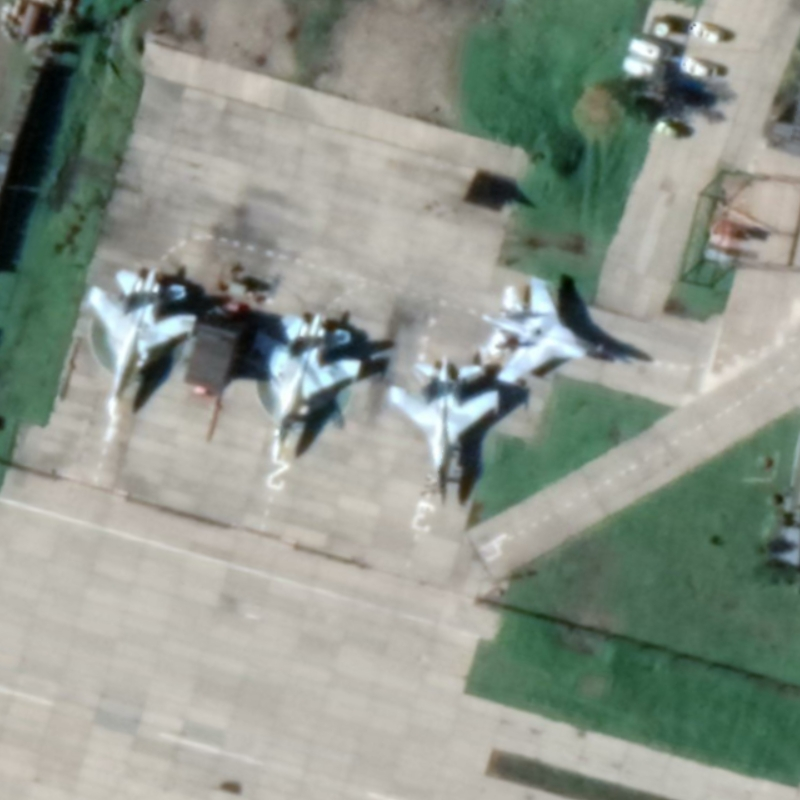A1: (82, 266, 200, 427), (249, 308, 366, 466), (387, 353, 504, 510), (478, 273, 623, 389)
